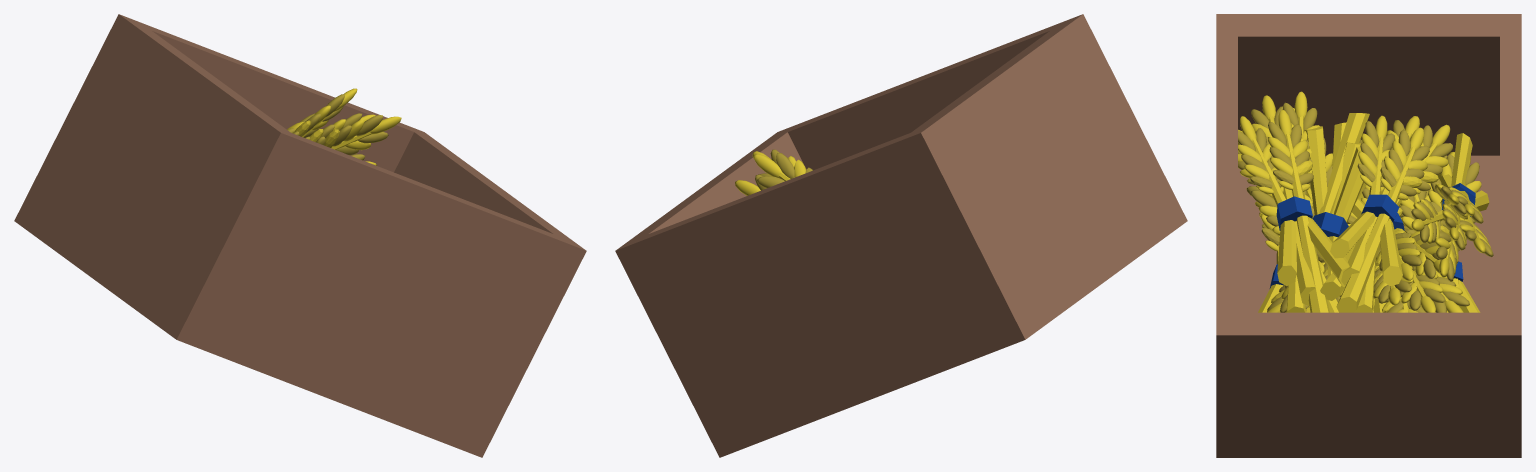
The model's file is WheatBox.fbx.
3 renders of one model, left to right at view 1: azimuth 30°, elevation 25°; view 2: azimuth 150°, elevation 25°; view 3: azimuth 270°, elevation 25°, orthographic. The views are drawn at different scales.
Parts seen in each view (by area): view 1: Cube.057, Cylinder.123; view 2: Cube.057, Cylinder.123; view 3: Cube.057, Cylinder.125, Cylinder.124, Cylinder.046, Cylinder.123, Cylinder.045, Cylinder.042, Cylinder.043, Cylinder.041, Cylinder.044.
Boxes of the visible parts, <box> form: Cube.057: <box>14,14,586,457</box>; Cylinder.123: <box>287,88,401,165</box>; Cube.057: <box>615,14,1187,457</box>; Cylinder.123: <box>735,149,812,195</box>; Cube.057: <box>1216,14,1521,457</box>; Cylinder.125: <box>1238,91,1349,312</box>; Cylinder.124: <box>1320,115,1453,312</box>; Cylinder.046: <box>1267,113,1369,312</box>; Cylinder.123: <box>1411,133,1493,281</box>; Cylinder.045: <box>1352,193,1469,312</box>; Cylinder.042: <box>1399,151,1481,312</box>; Cylinder.043: <box>1246,138,1332,235</box>; Cylinder.041: <box>1258,165,1332,312</box>; Cylinder.044: <box>1347,185,1403,312</box>.
Bounding box in the file's own units: 133 × 116 × 90.87.
